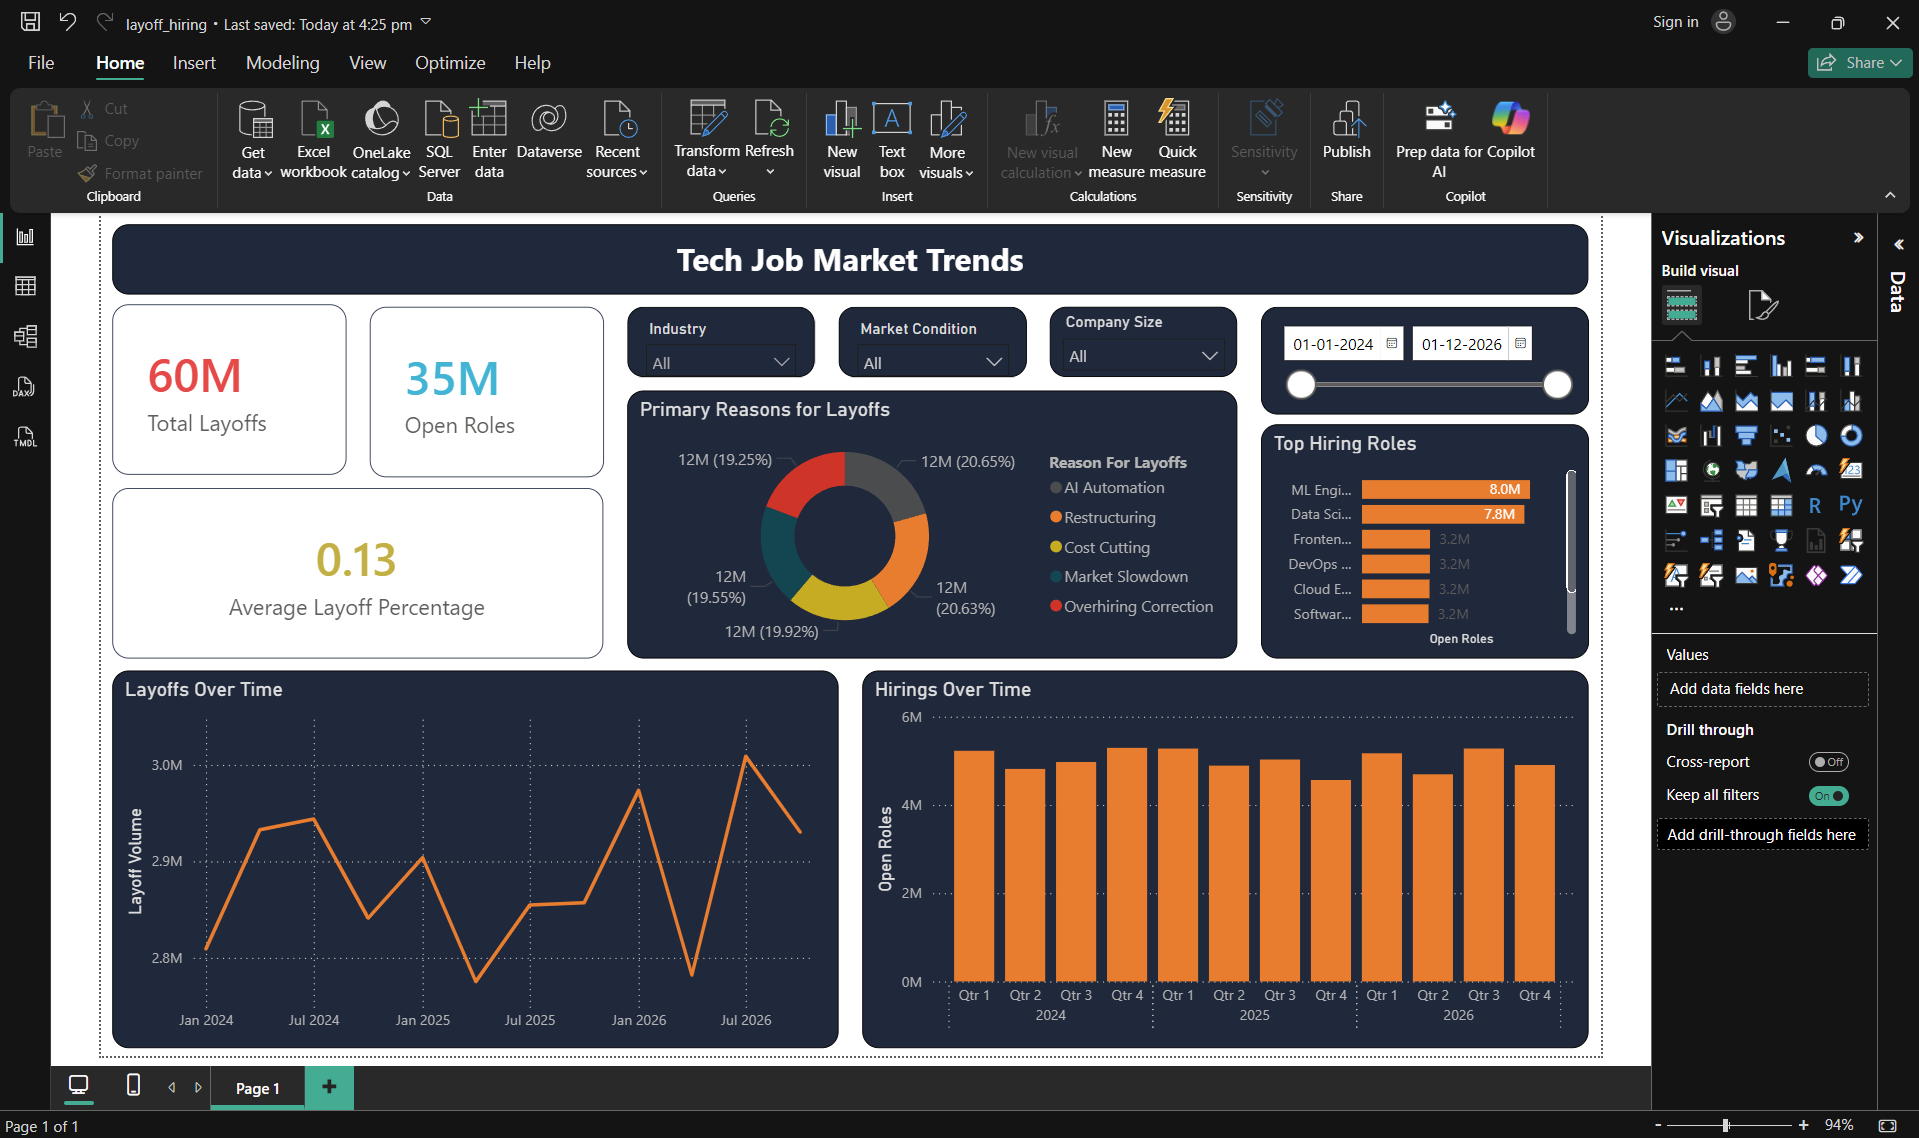

What the dashboard file says about the page in this screenshot:
{"tool":"powerbi","page":{"name":"Page 1","canvas":[1280,720],"ordinal":0},"visuals":[{"type":"slicer","fields":{"Values":["tech_layoffs_hiring_trends_elit.Date"]},"box":[990,80,280,92.2],"z":0},{"type":"slicer","fields":{"Values":["tech_layoffs_hiring_trends_elit.industry"]},"box":[449.2,80,160,60],"z":1000},{"type":"slicer","fields":{"Values":["tech_layoffs_hiring_trends_elit.company_size"]},"box":[810.1,80,160,60],"z":2000},{"type":"slicer","fields":{"Values":["tech_layoffs_hiring_trends_elit.market_condition"]},"box":[629.1,80,161.1,60],"z":3000},{"type":"textbox","box":[10,10,1260,60.4],"z":4000},{"type":"cardVisual","fields":{"Data":["Sum(tech_layoffs_hiring_trends_elit.layoffs_count)"]},"box":[10,77.8,200,145.6],"z":5000},{"type":"cardVisual","fields":{"Data":["Avg(tech_layoffs_hiring_trends_elit.layoff_percentage)"]},"box":[10,234.8,418.9,145.6],"z":6000},{"type":"cardVisual","fields":{"Data":["Sum(tech_layoffs_hiring_trends_elit.open_roles)"]},"box":[229.3,80,200,145.6],"z":7000},{"type":"lineChart","title":"Layoffs Over Time","fields":{"Category":["tech_layoffs_hiring_trends_elit.Date.Variation.Date Hierarchy.Year","tech_layoffs_hiring_trends_elit.Date.Variation.Date Hierarchy.Quarter","tech_layoffs_hiring_trends_elit.Date.Variation.Date Hierarchy.Month","tech_layoffs_hiring_trends_elit.Date.Variation.Date Hierarchy.Day"],"Y":["Sum(tech_layoffs_hiring_trends_elit.open_roles)"]},"box":[10,390,620,322.2],"z":8000},{"type":"clusteredColumnChart","title":"Hirings Over Time","fields":{"Category":["tech_layoffs_hiring_trends_elit.Date.Variation.Date Hierarchy.Year","tech_layoffs_hiring_trends_elit.Date.Variation.Date Hierarchy.Quarter","tech_layoffs_hiring_trends_elit.Date.Variation.Date Hierarchy.Month","tech_layoffs_hiring_trends_elit.Date.Variation.Date Hierarchy.Day"],"Y":["Sum(tech_layoffs_hiring_trends_elit.layoffs_count)"]},"box":[650,390,620,322.2],"z":9000},{"type":"donutChart","title":"Primary Reasons for Layoffs","fields":{"Category":["tech_layoffs_hiring_trends_elit.reason_for_layoffs"],"Y":["Sum(tech_layoffs_hiring_trends_elit.layoffs_count)"]},"box":[448.9,151.1,521.1,228.9],"z":10000},{"type":"barChart","title":"Top Hiring Roles","fields":{"Y":["Sum(tech_layoffs_hiring_trends_elit.open_roles)"],"Category":["tech_layoffs_hiring_trends_elit.top_hiring_role"]},"box":[990,180,280,200],"z":11000}]}

Visuals, with their boxes on the page's 1280x720 design canvas (x1, y1, x2, y2). These are canvas units, not pixel positions in the 1919x1138 screenshot, which may show the page scaled, cropped or inside an application window:
slicer - tech_layoffs_hiring_trends_elit.Date: select_region(990, 80, 1270, 172)
slicer - tech_layoffs_hiring_trends_elit.industry: select_region(449, 80, 609, 140)
slicer - tech_layoffs_hiring_trends_elit.company_size: select_region(810, 80, 970, 140)
slicer - tech_layoffs_hiring_trends_elit.market_condition: select_region(629, 80, 790, 140)
textbox: select_region(10, 10, 1270, 70)
cardVisual - Sum(tech_layoffs_hiring_trends_elit.layoffs_count): select_region(10, 78, 210, 223)
cardVisual - Avg(tech_layoffs_hiring_trends_elit.layoff_percentage): select_region(10, 235, 429, 380)
cardVisual - Sum(tech_layoffs_hiring_trends_elit.open_roles): select_region(229, 80, 429, 226)
"Layoffs Over Time" lineChart: select_region(10, 390, 630, 712)
"Hirings Over Time" clusteredColumnChart: select_region(650, 390, 1270, 712)
"Primary Reasons for Layoffs" donutChart: select_region(449, 151, 970, 380)
"Top Hiring Roles" barChart: select_region(990, 180, 1270, 380)
